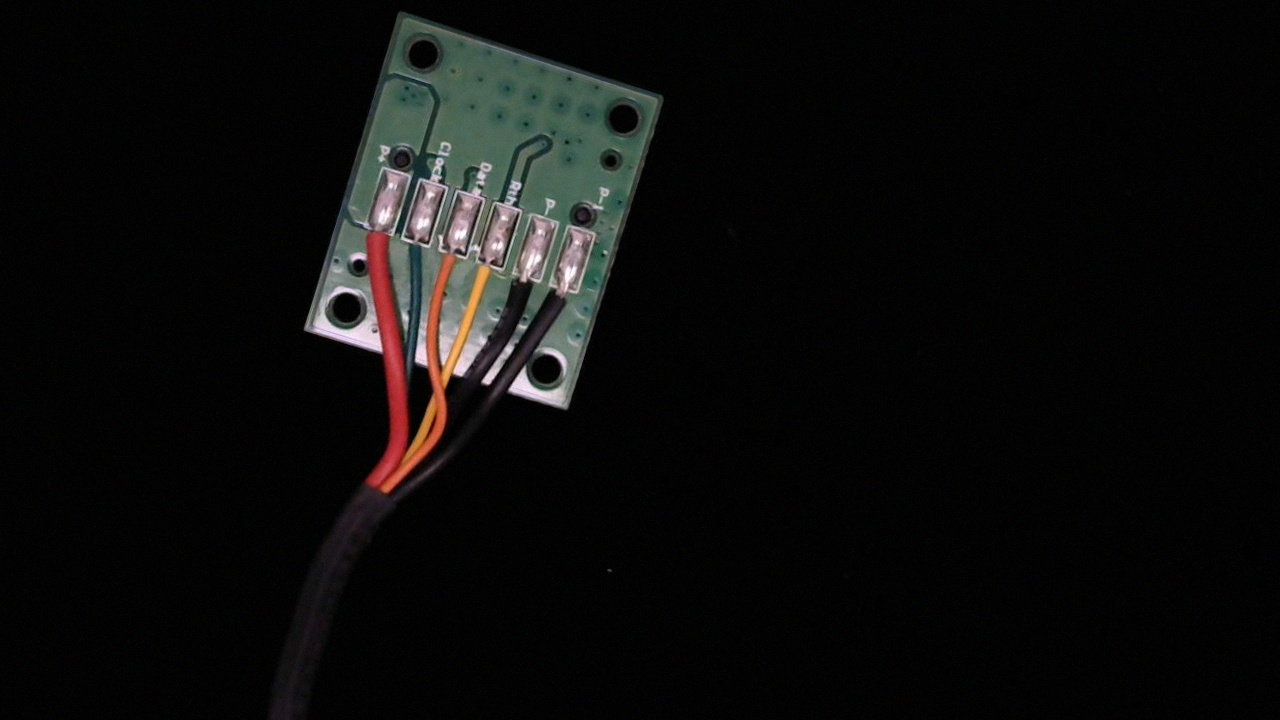Black: (490, 254, 548, 337)
Black1: (535, 267, 584, 333)
Green: (386, 222, 440, 291)
Orange: (423, 233, 471, 300)
Red: (351, 211, 401, 279)
Yellow: (459, 245, 510, 312)
